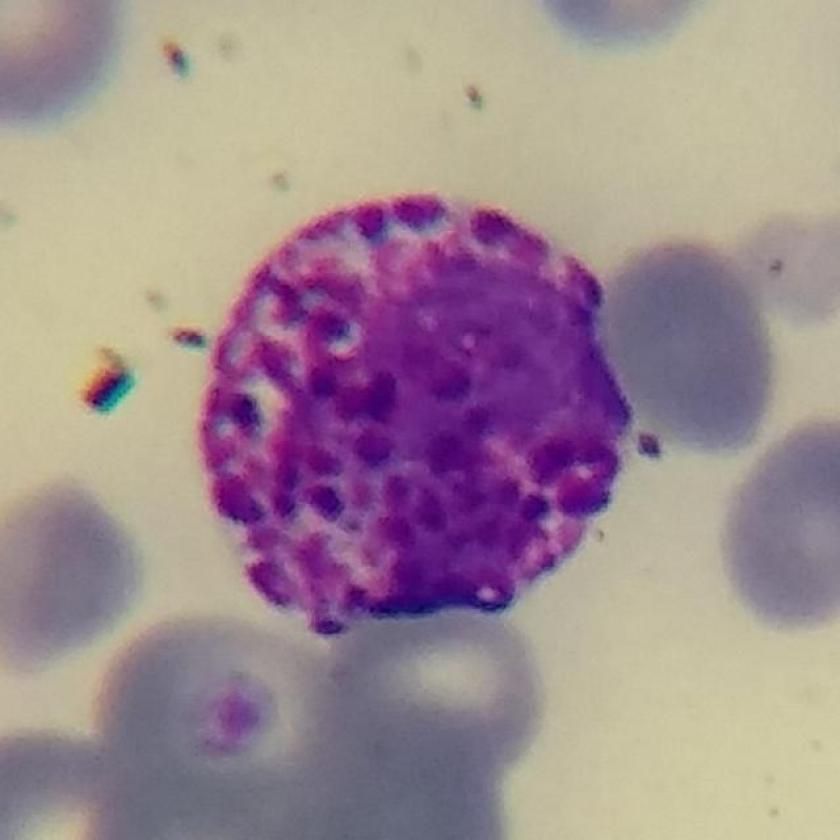basophil: (202, 187, 641, 639)
